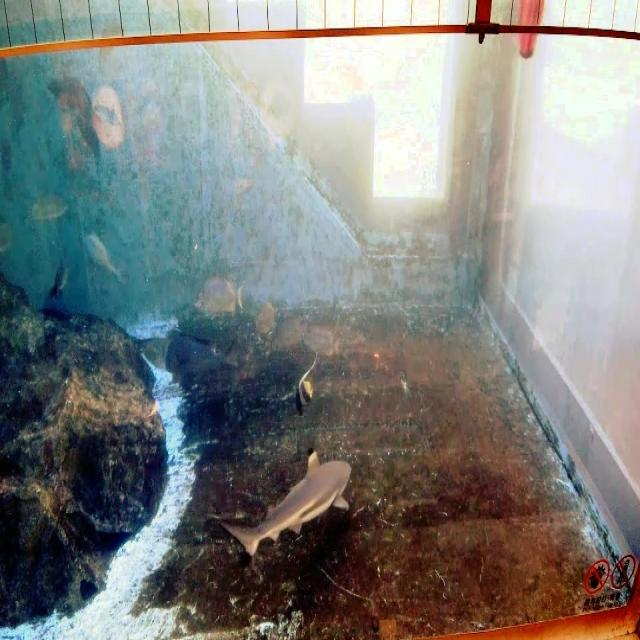angelfish: (286, 343, 322, 422)
gold snapper: (188, 268, 248, 326)
other black fish: (157, 324, 244, 390)
shark: (209, 439, 355, 578)
